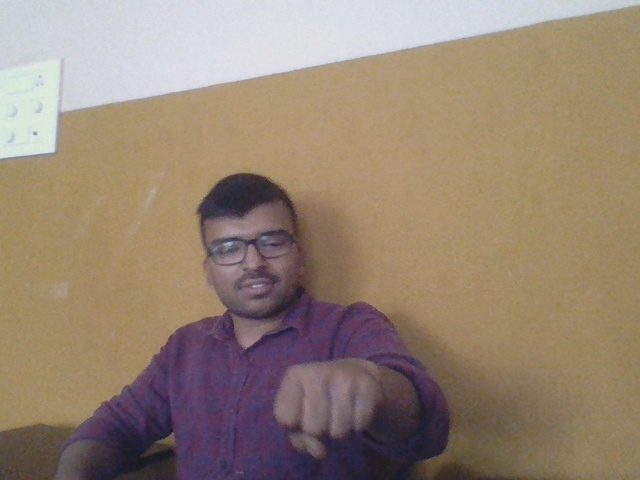Yes: (264, 348, 400, 463)
